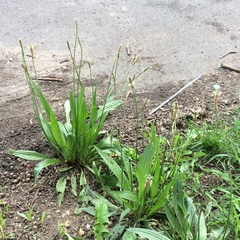buckhorn plantain: (15, 20, 115, 170), (105, 74, 186, 215)
